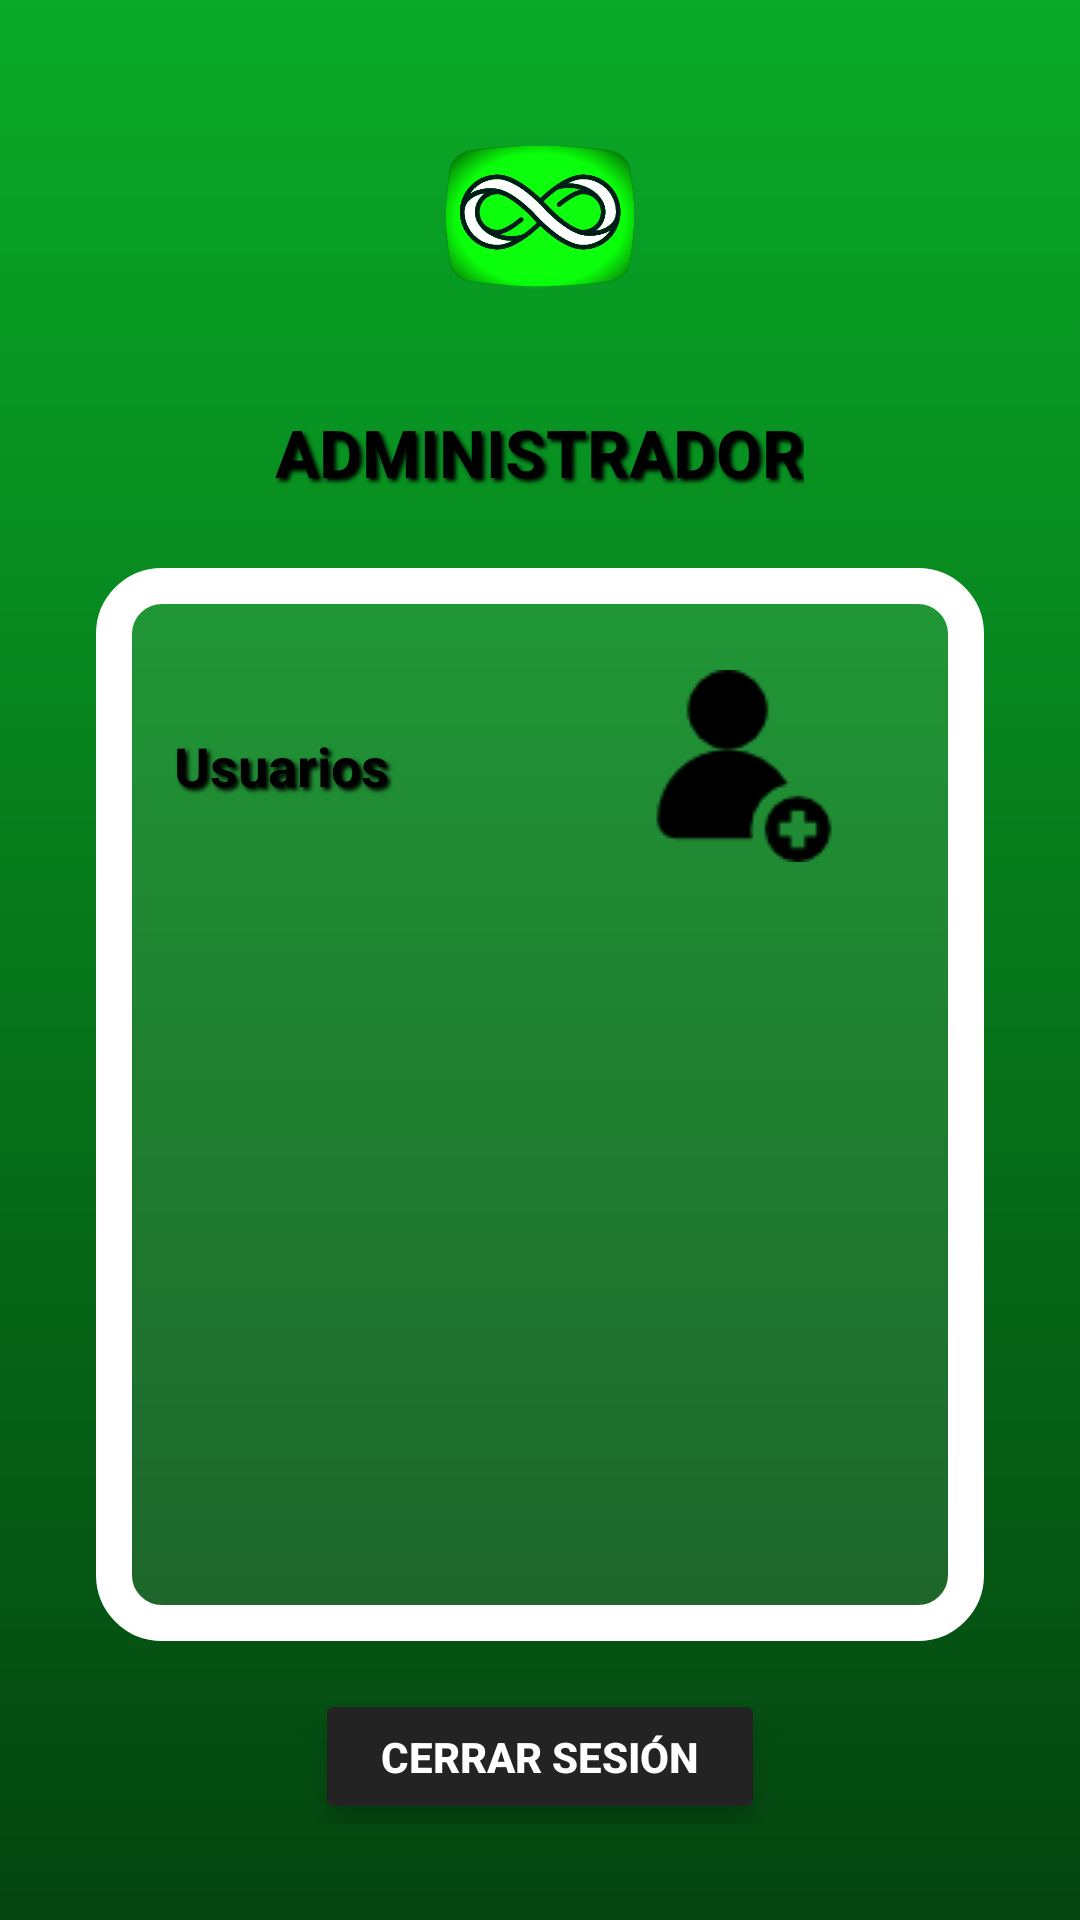

Named icons in this screenshot (1080px x 1920px) and their bounding boxes, (x1, y1, x2, y2):
Agregar usuario: (656, 670, 832, 862)
